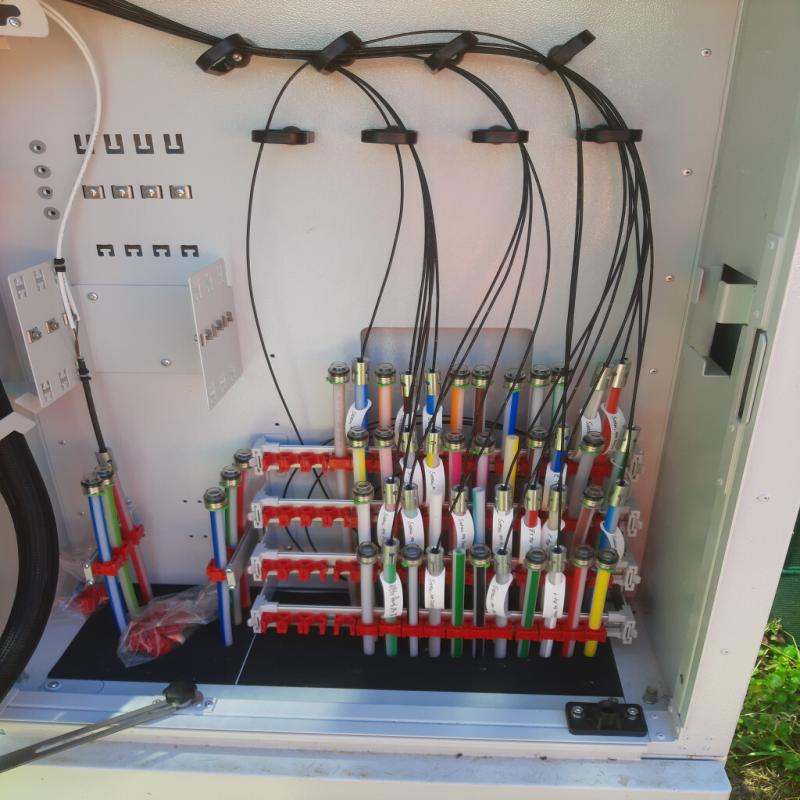NT-Gehause: (1, 2, 800, 790)
